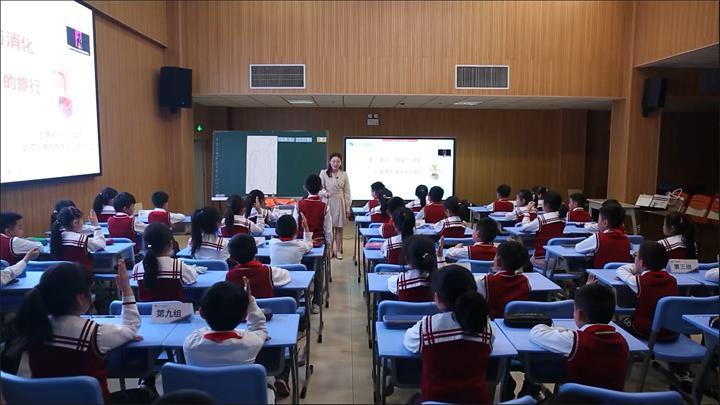hands-up: (43, 255, 137, 364), (185, 281, 261, 365), (555, 268, 610, 359), (389, 236, 467, 297), (268, 210, 322, 274), (54, 205, 115, 259), (484, 236, 530, 295), (219, 195, 264, 236), (247, 186, 285, 228)
listen: (626, 239, 678, 338), (582, 198, 635, 277), (657, 213, 699, 272), (531, 192, 560, 262), (190, 210, 223, 258), (113, 192, 143, 243), (441, 197, 467, 242), (509, 187, 534, 225), (149, 188, 176, 223), (382, 197, 406, 236), (491, 184, 517, 219), (424, 183, 444, 224), (565, 191, 584, 224), (407, 184, 431, 210), (364, 182, 386, 206)
stand: (292, 170, 335, 308)
